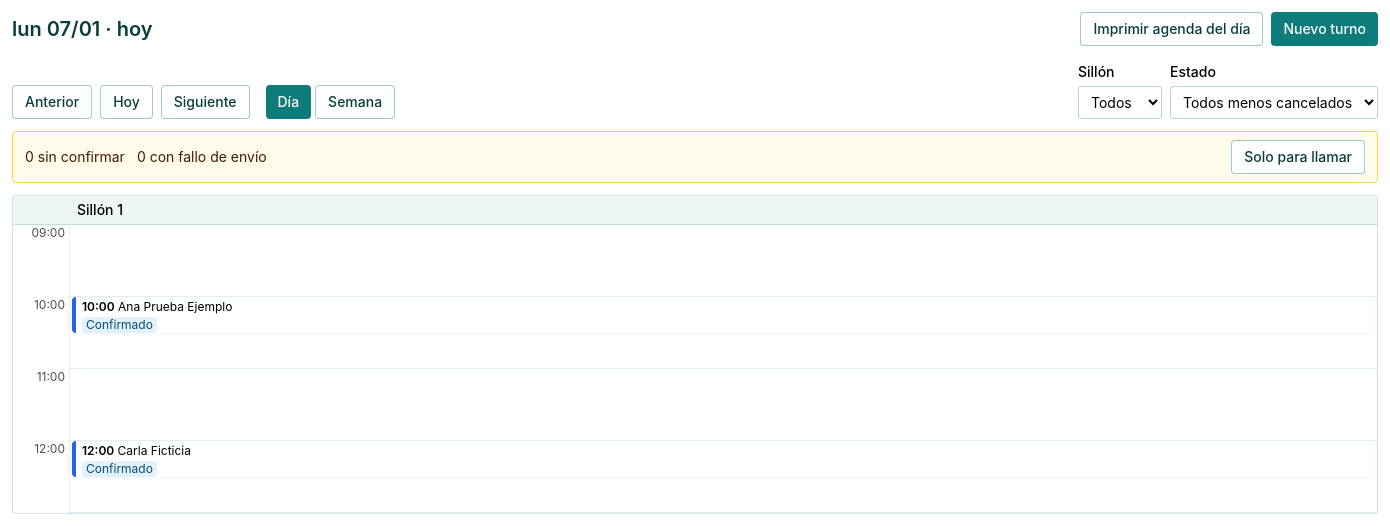
it: AgendaPage › vista semana con siete días y navegación
Click the button "Semana": (355, 102) x1=315 y1=85 x2=395 y2=119
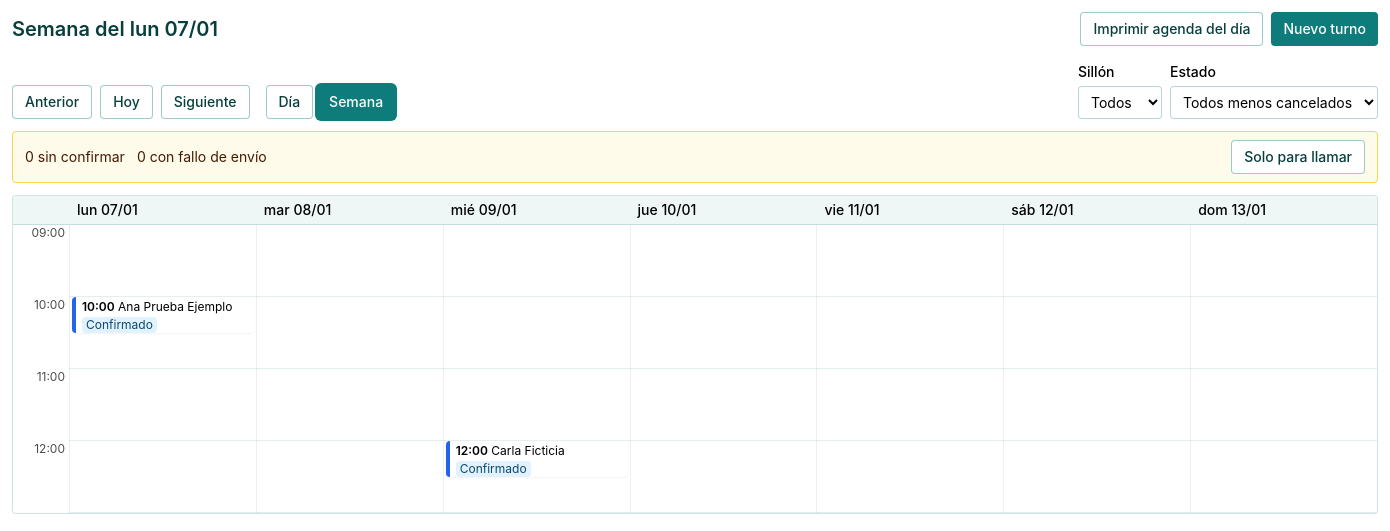
Expected: the column heading "lun 07/01" is shown, x1=77 y1=201 x2=138 y2=218
Expected: the column heading "mié 09/01" is shown, x1=451 y1=201 x2=516 y2=218
Expected: the column heading "dom 13/01" is shown, x1=1198 y1=201 x2=1266 y2=218
Click the button "Siguiente": (205, 102) x1=161 y1=85 x2=250 y2=119
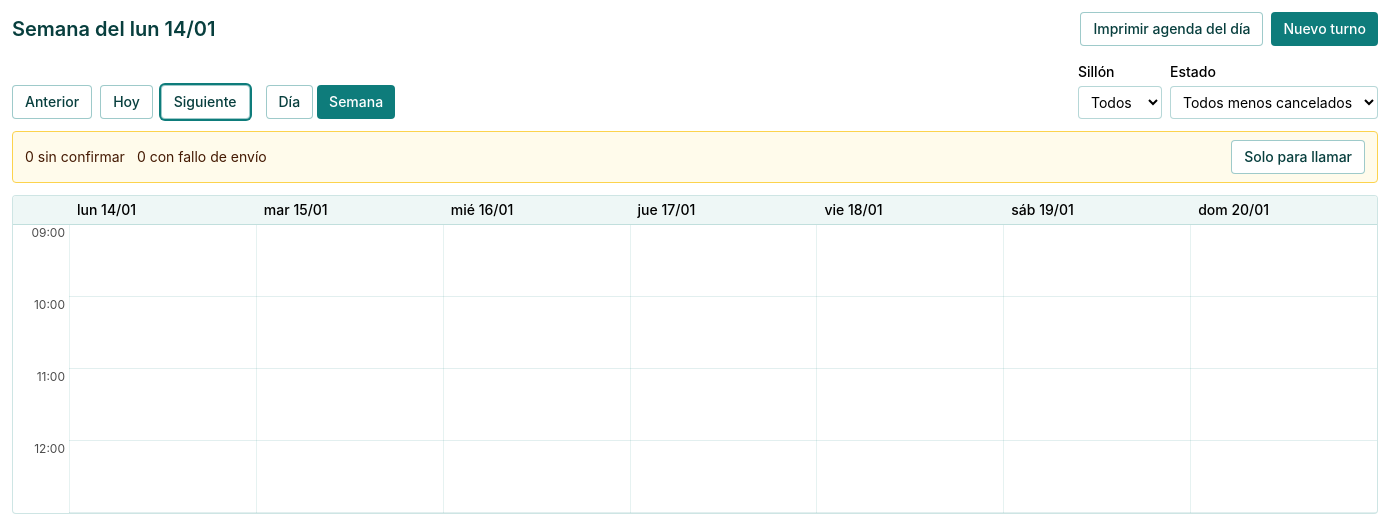
Expected: the column heading "lun 14/01" is shown, x1=77 y1=201 x2=136 y2=218
